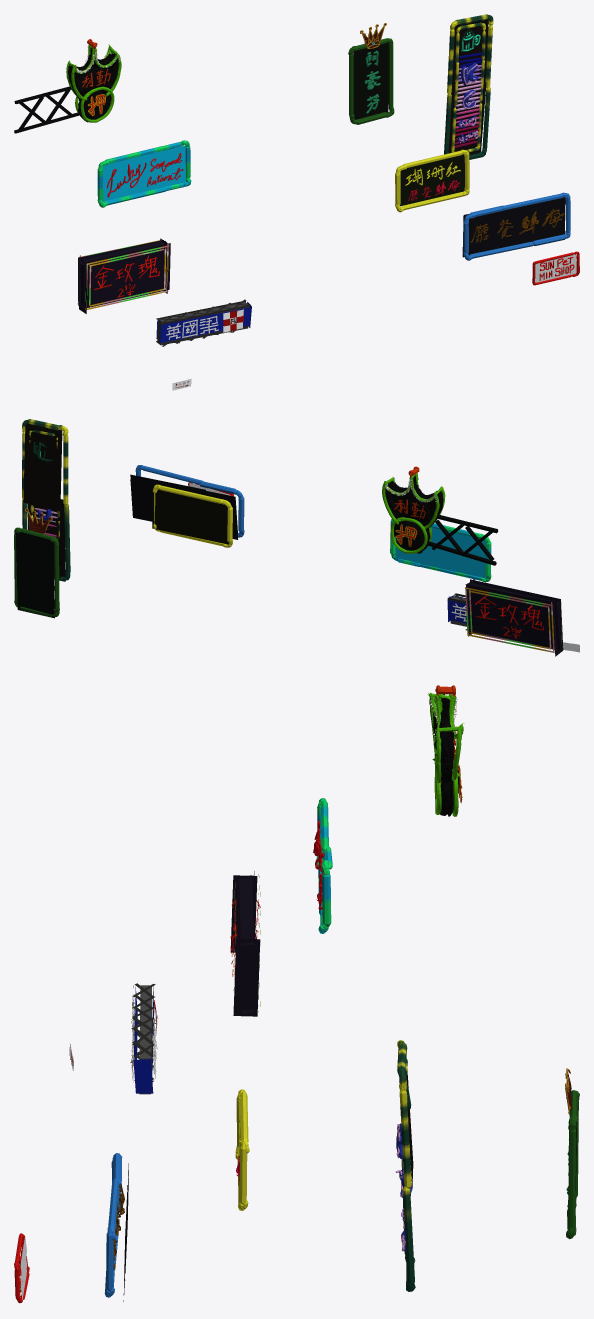
The model's file is HK-neon-sign.fbx.
The picture shows the model from 3 angles, top to bottom: view 1: azimuth 30°, elevation 25°; view 2: azimuth 150°, elevation 25°; view 3: azimuth 270°, elevation 25°; orthographic projection. The views are drawn at different scales.
Parts seen in each view (by area): view 1: Sign5; view 2: Sign5; view 3: Sign5.
Boxes of the visible parts, <box> form: Sign5: <box>14,14,579,390</box>; Sign5: <box>14,419,579,656</box>; Sign5: <box>14,685,579,1303</box>.
Size of the model in its own units: 13.67 by 7.13 by 9.14.
